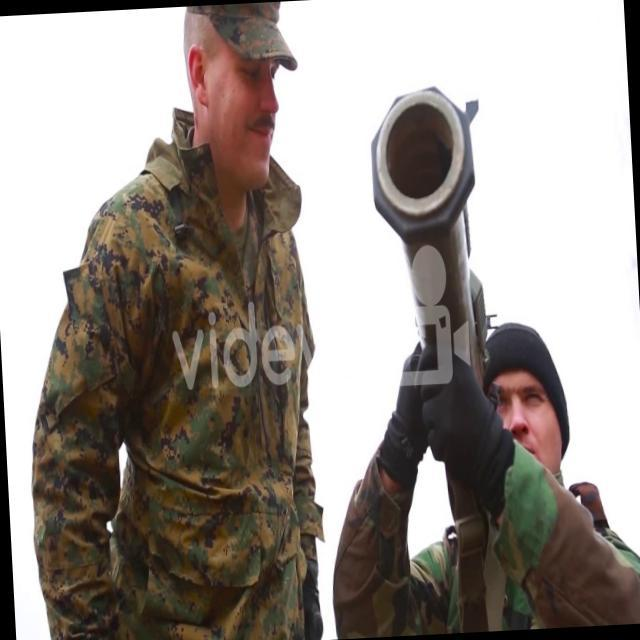rocket: (366, 86, 496, 392)
